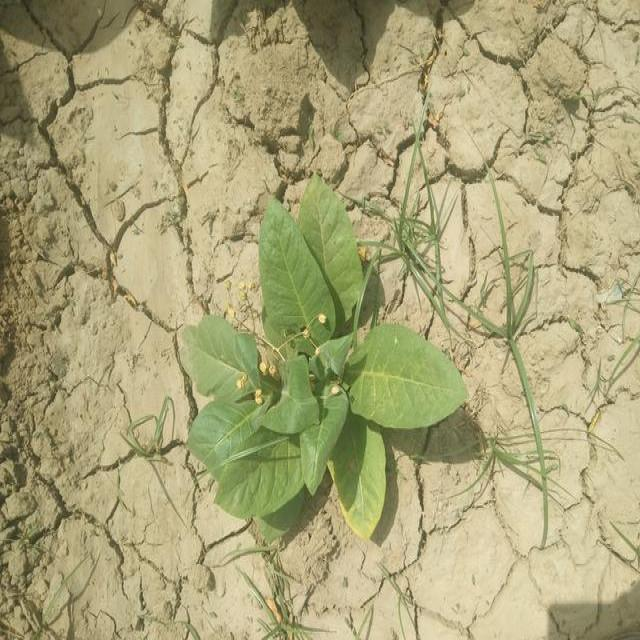crop: (178, 180, 462, 528)
